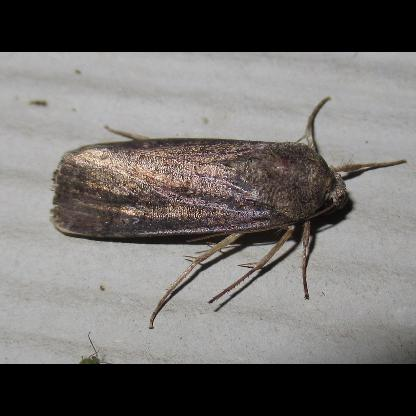Fall Armyworm Moth: (48, 94, 410, 332)
